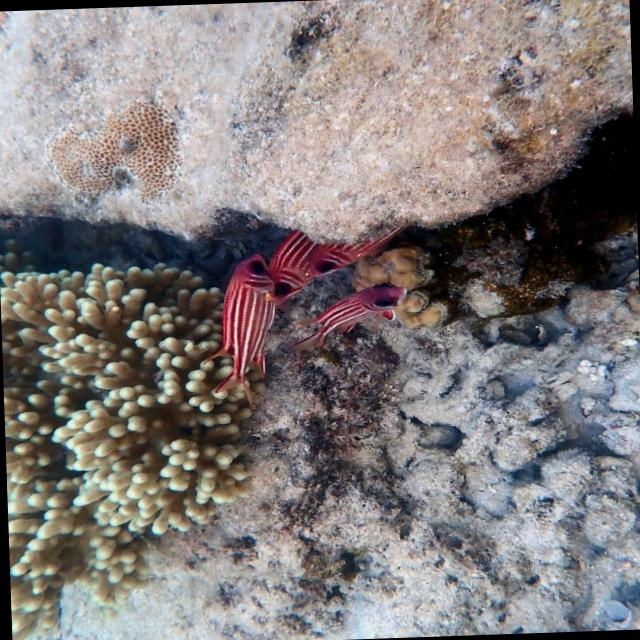Asker Baligi: (185, 244, 292, 396), (296, 263, 416, 369)
